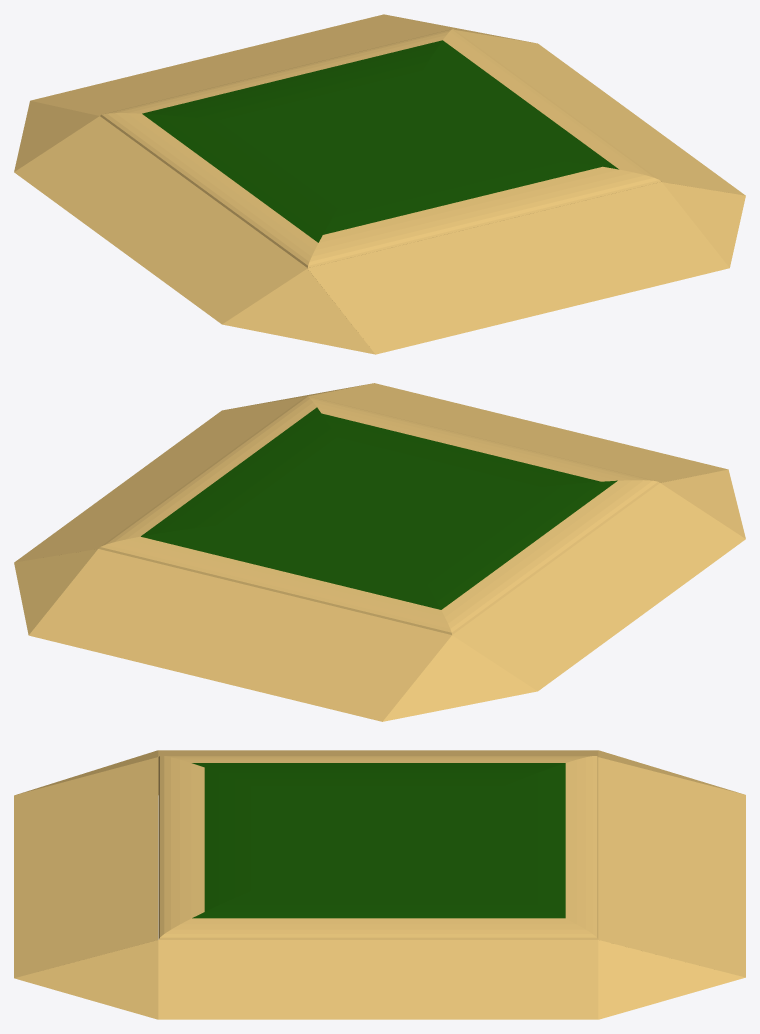
Rendered from Island.fbx.
3 views of the same model, one above another, from view 1: azimuth 30°, elevation 25°; view 2: azimuth 150°, elevation 25°; view 3: azimuth 270°, elevation 25° (orthographic). The views are drawn at different scales.
Visible parts, largest first — view 1: Cube; view 2: Cube; view 3: Cube.
Boxes of the visible parts, x1,y1,x2,y2 form: Cube: (14, 14, 745, 354); Cube: (14, 383, 745, 721); Cube: (14, 750, 745, 1019).
Size of the model in its own units: 119091 by 9964 by 136153.
